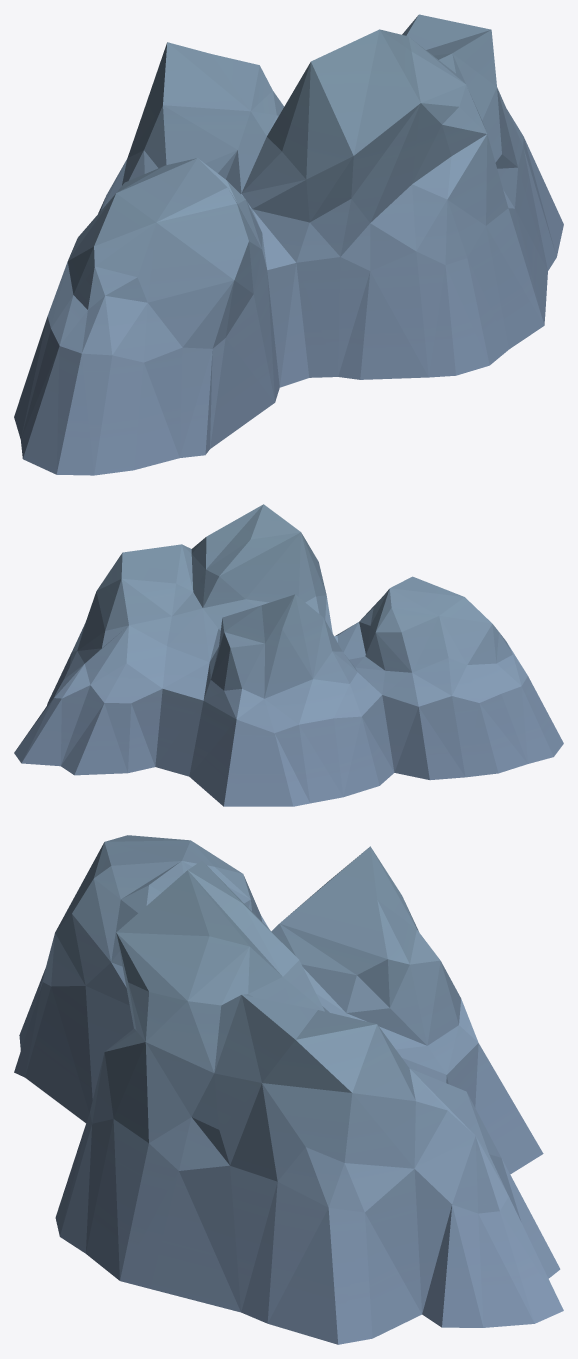
Rendered from ShwedenRock_8.fbx.
The picture shows the model from 3 angles, top to bottom: view 1: azimuth 30°, elevation 25°; view 2: azimuth 150°, elevation 25°; view 3: azimuth 270°, elevation 25°; orthographic projection. The views are drawn at different scales.
Visible parts, largest first — view 1: ShwedenRock_8; view 2: ShwedenRock_8; view 3: ShwedenRock_8.
Boxes of the visible parts, bbox=[...] form: ShwedenRock_8: bbox=[14, 14, 563, 475]; ShwedenRock_8: bbox=[14, 504, 563, 806]; ShwedenRock_8: bbox=[14, 835, 563, 1344].
Bounding box in the file's own units: 3.77 × 1.71 × 2.52.
1 material, 1 textured.
